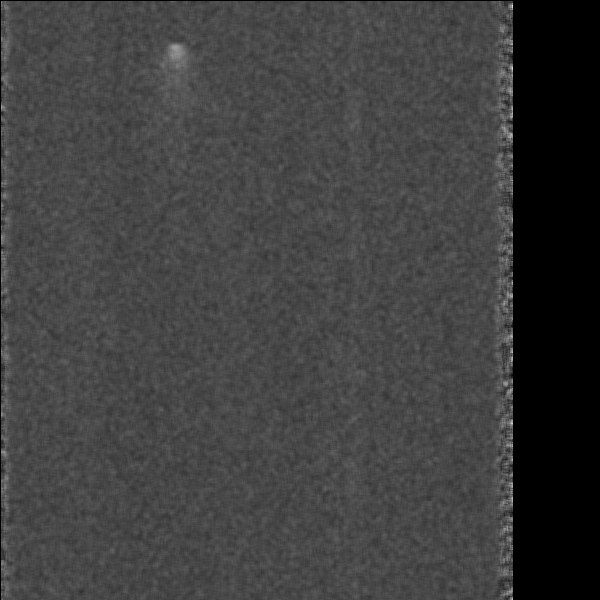spark: (163, 37, 190, 110)
